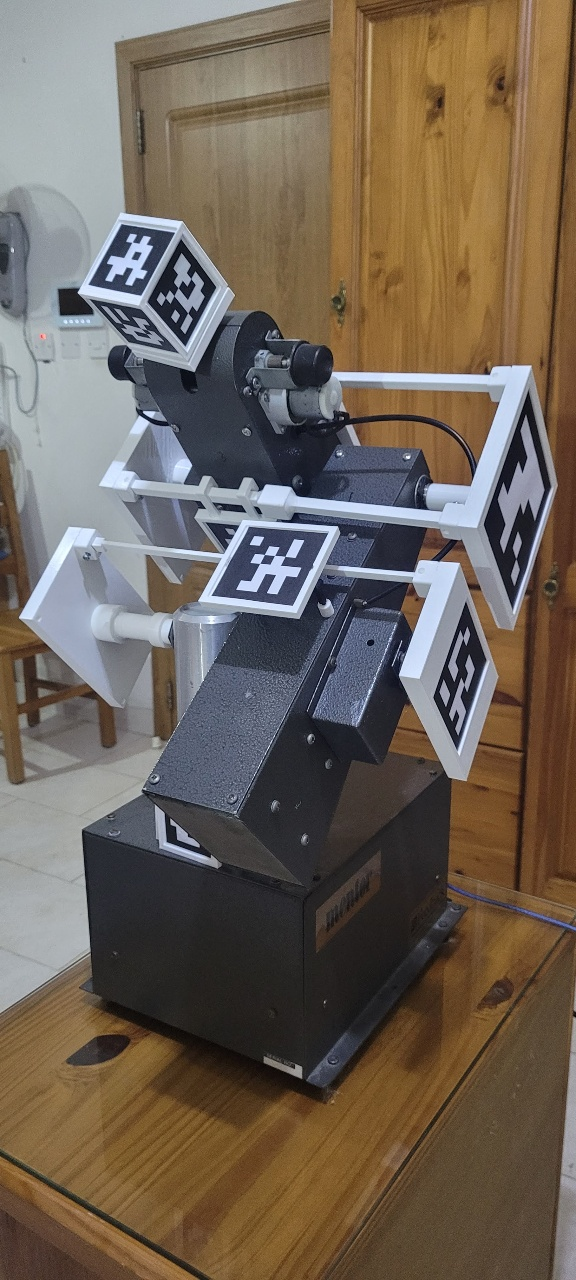Robot: (18, 213, 560, 889)
